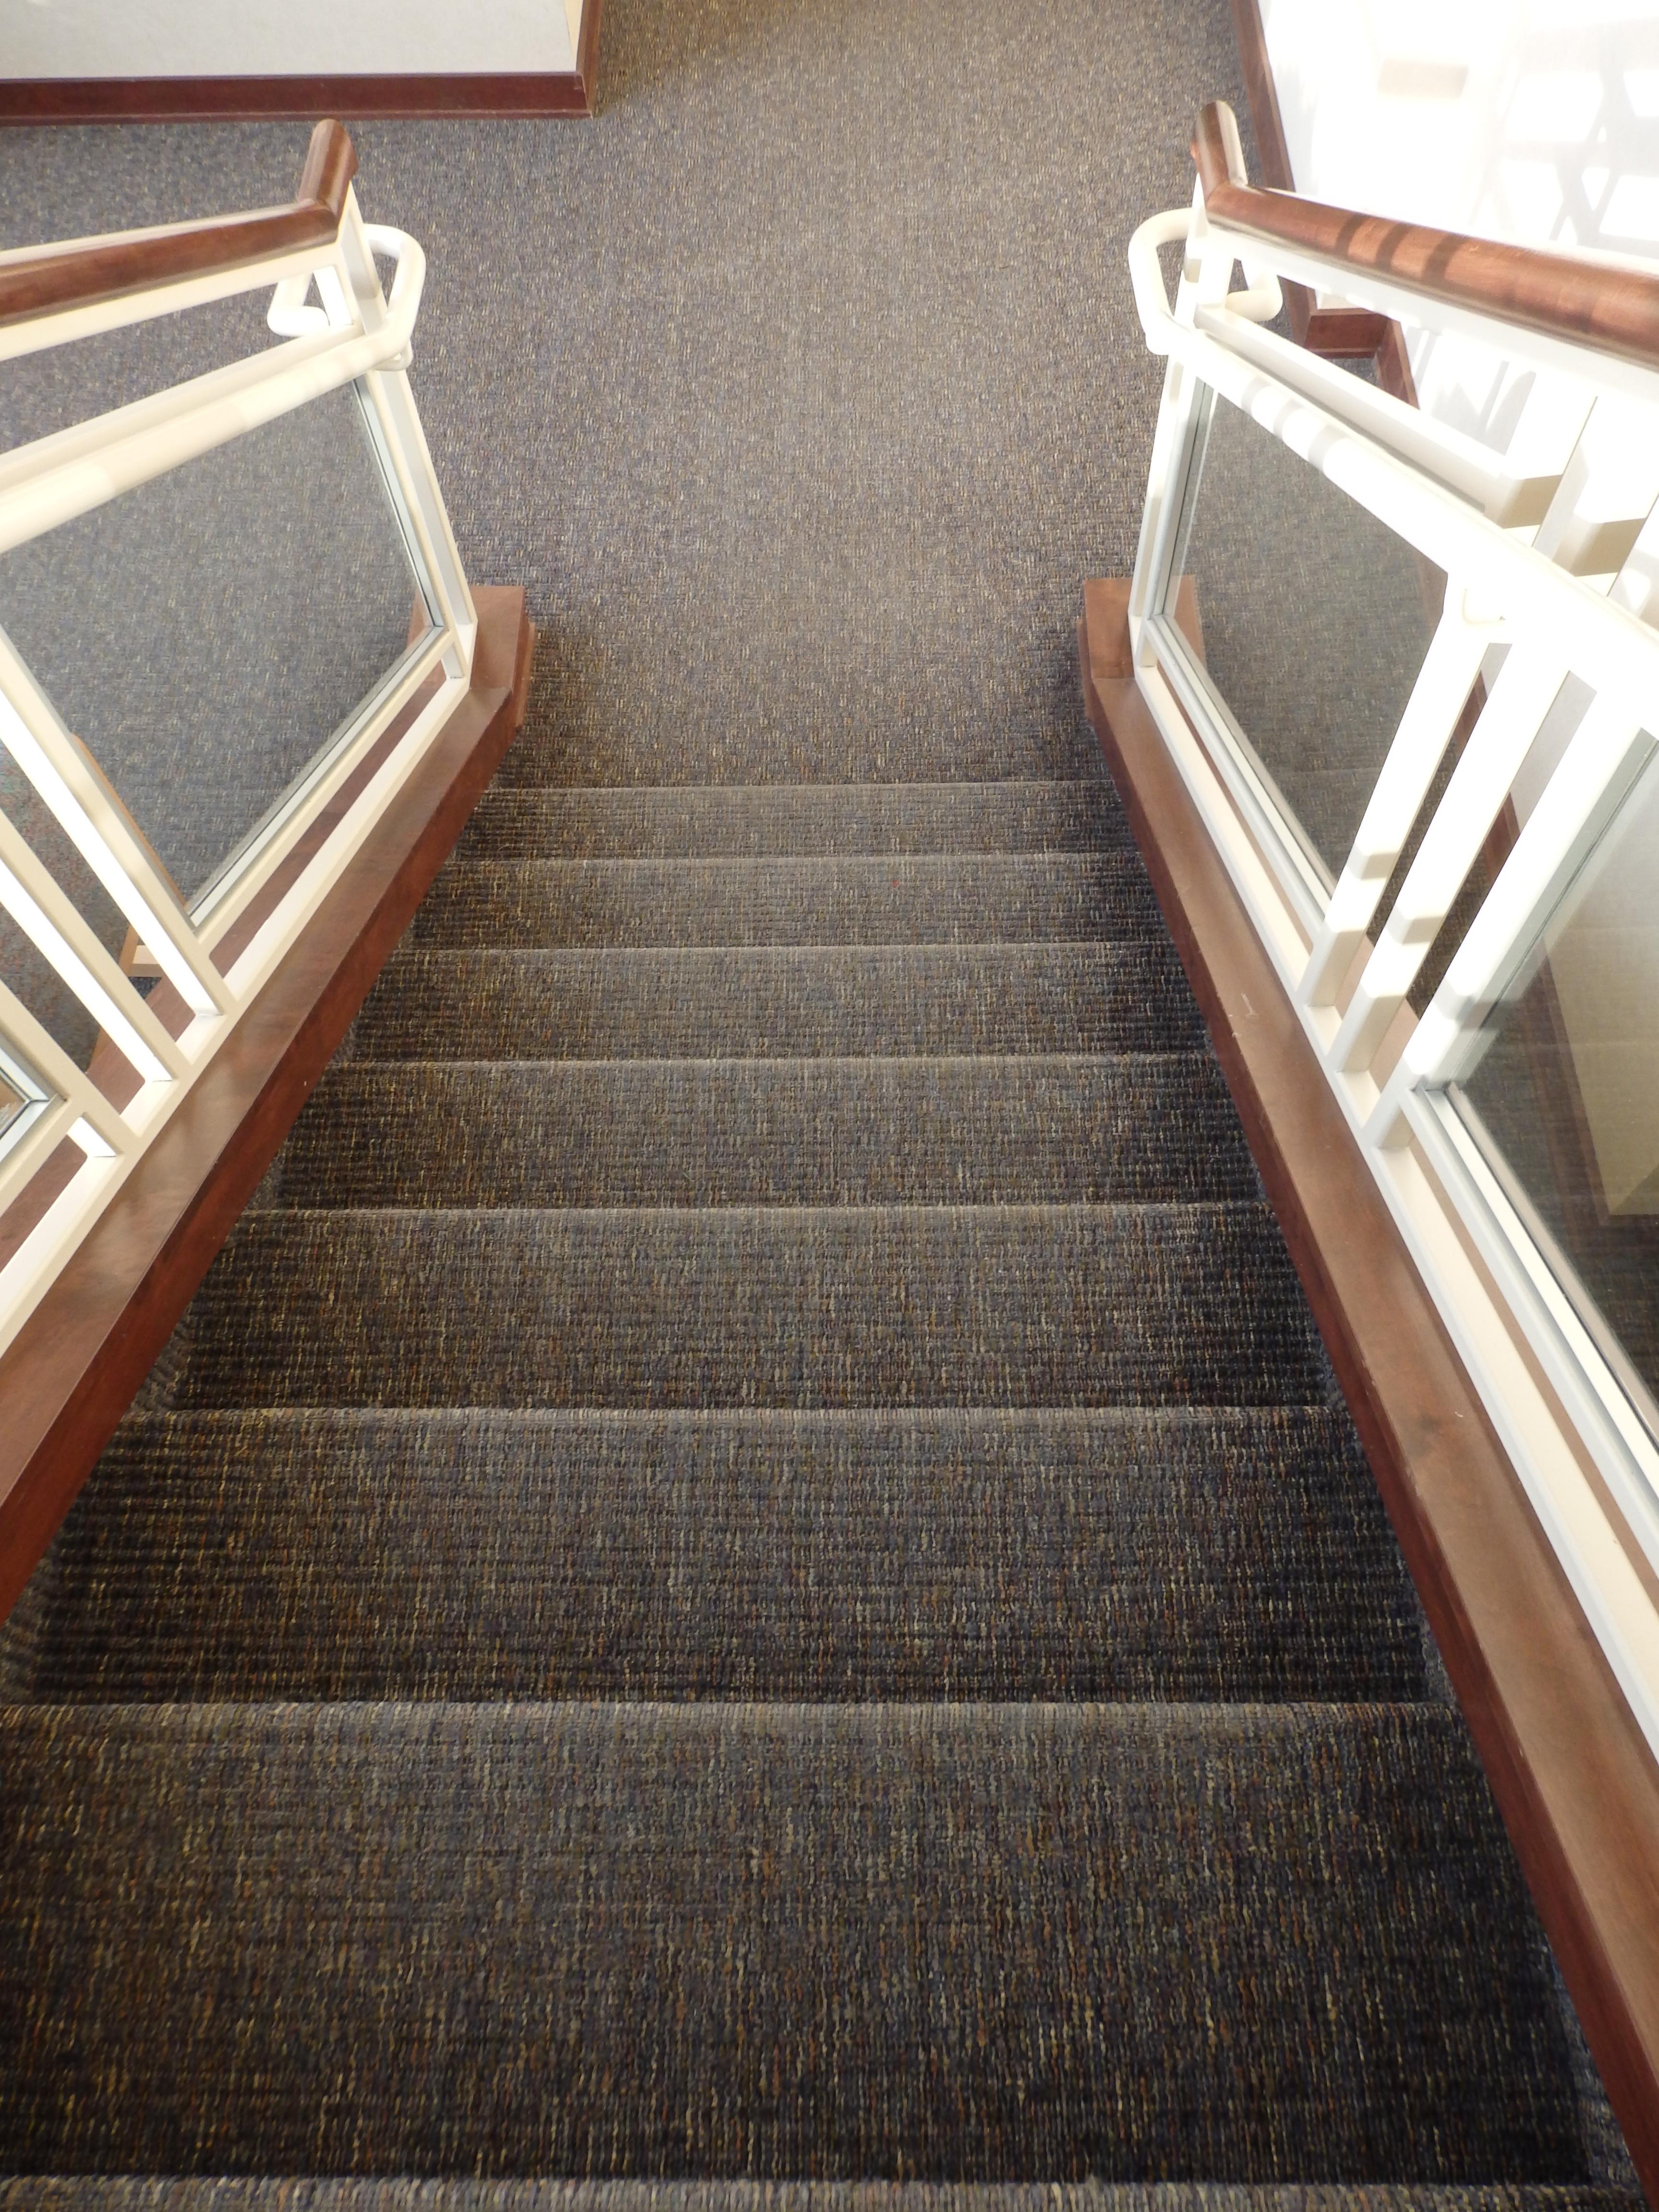stairs_down: (125, 763, 1434, 1878)
